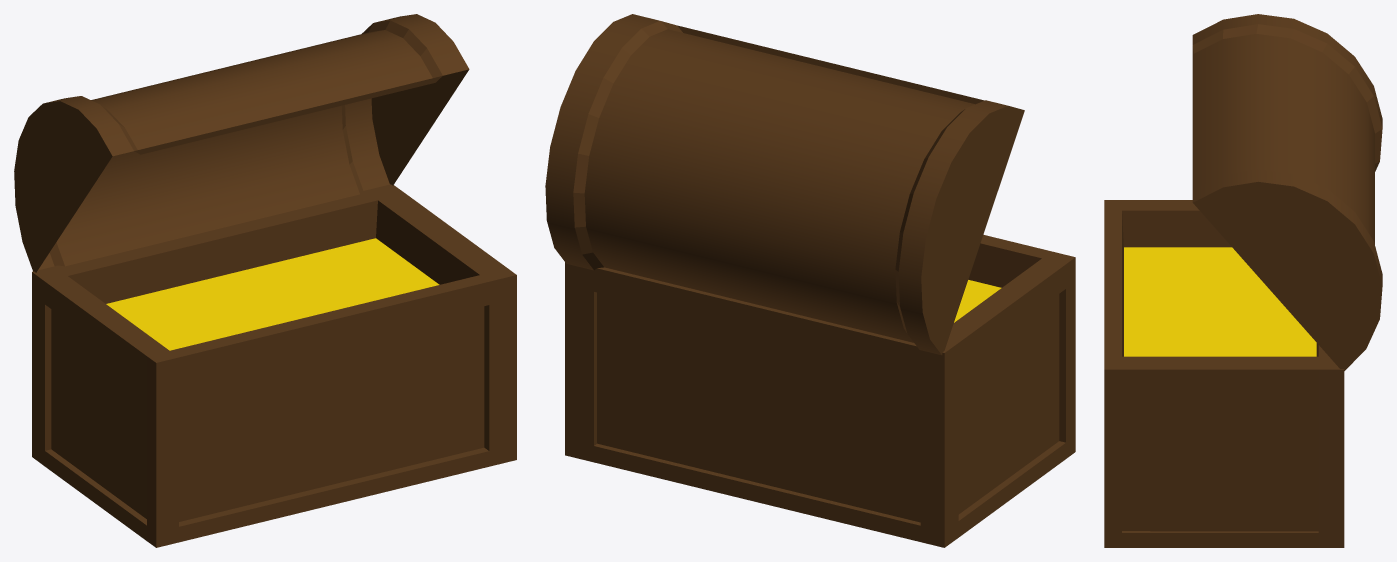
The model's file is Chest_01.fbx.
3 views of the same model, side by side, from view 1: azimuth 30°, elevation 25°; view 2: azimuth 150°, elevation 25°; view 3: azimuth 270°, elevation 25° (orthographic). The views are drawn at different scales.
Parts seen in each view (by area): view 1: chest, chest_lid1; view 2: chest_lid1, chest; view 3: chest, chest_lid1.
Part boxes in pixels (<box>): chest: <box>32,184,516,547</box>; chest_lid1: <box>14,14,469,272</box>; chest_lid1: <box>545,14,1024,355</box>; chest: <box>565,234,1075,547</box>; chest: <box>1104,200,1344,547</box>; chest_lid1: <box>1192,14,1382,370</box>.
Bounding box in the file's own units: 5.8 × 5.83 × 4.02.
